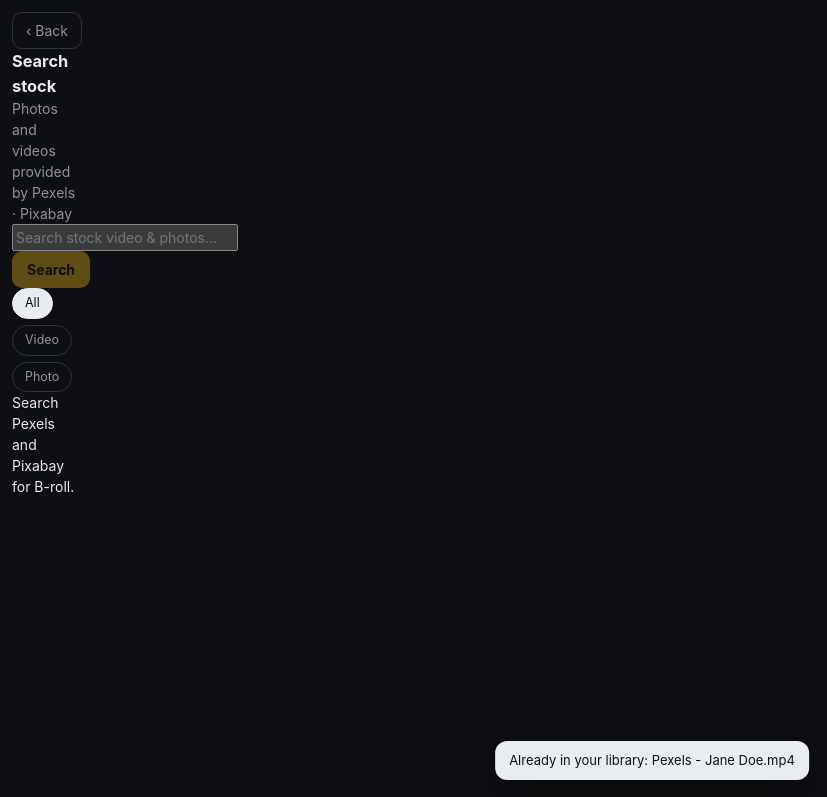
Test: StockPanel: Add to library › surfaces an import failure as a toast without marking the tile added
The image size is (827, 797).
Type "garden" into the field with placeholder "Search stock video & photos…" at [125, 238], box left=12, top=224, right=238, bottom=251
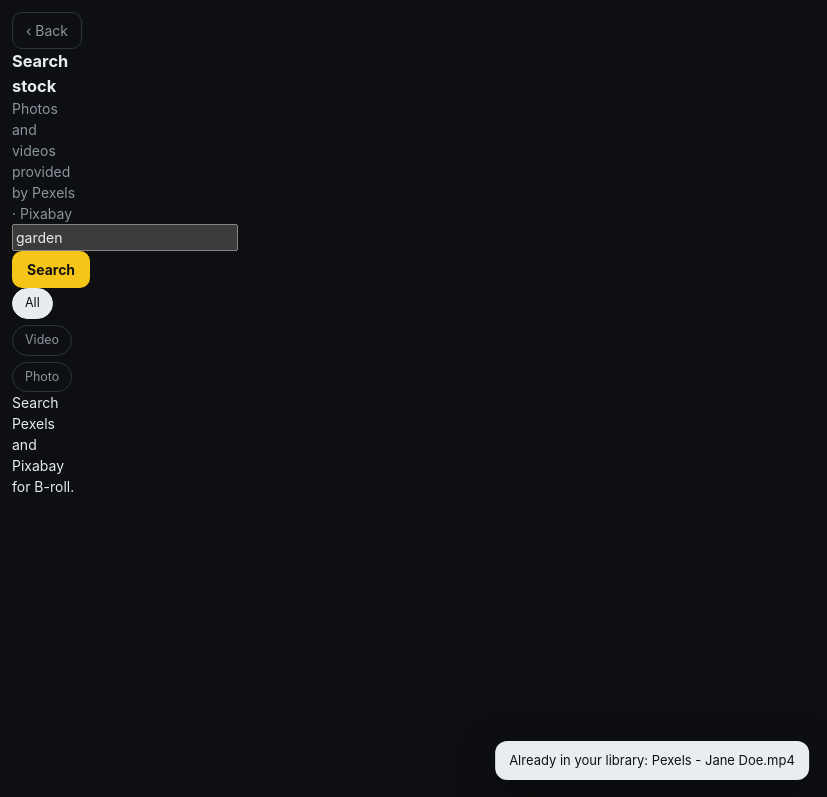
Click the button "Search" at [51, 270], box left=12, top=251, right=90, bottom=288
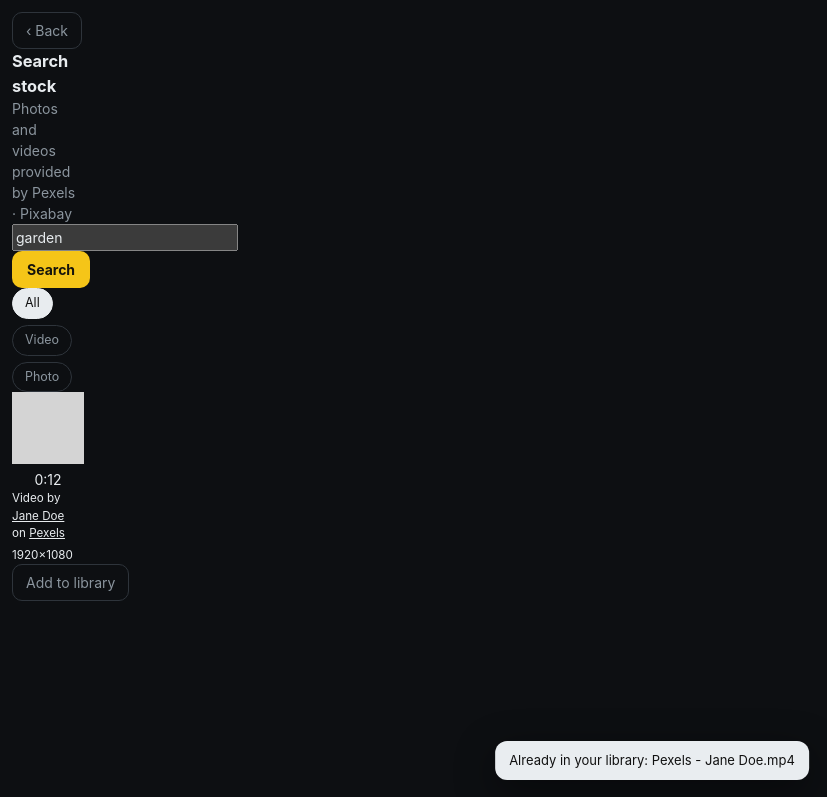
Expected: the link "Jane Doe" is shown, left=12, top=509, right=64, bottom=523
Click the button "Add to library" at [71, 583], box left=12, top=564, right=129, bottom=601
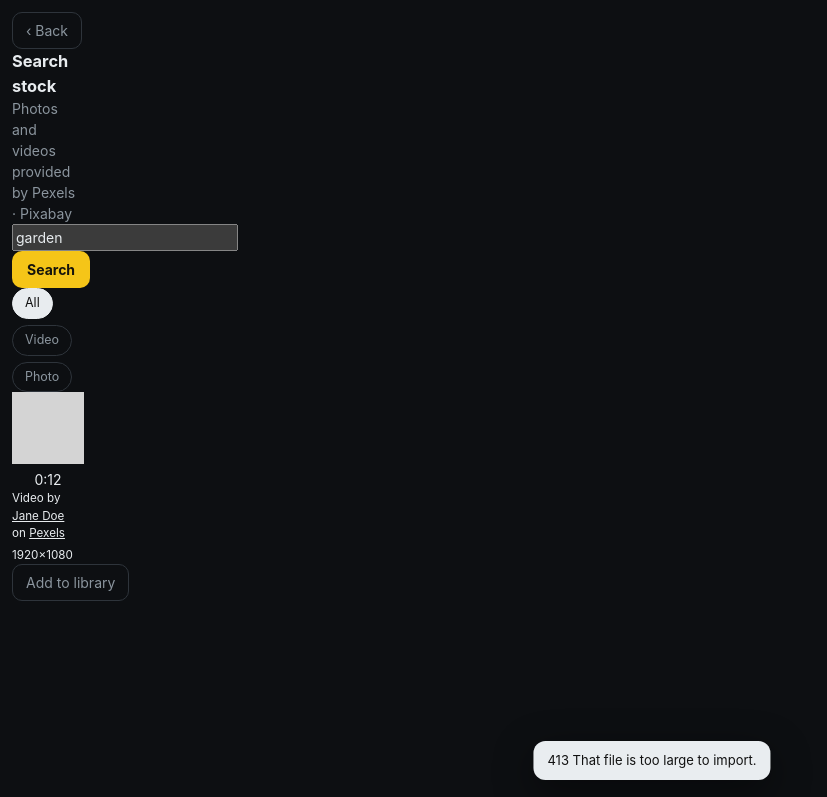
Expected: the message reads "413 That file is too large to import.", left=548, top=752, right=757, bottom=768
